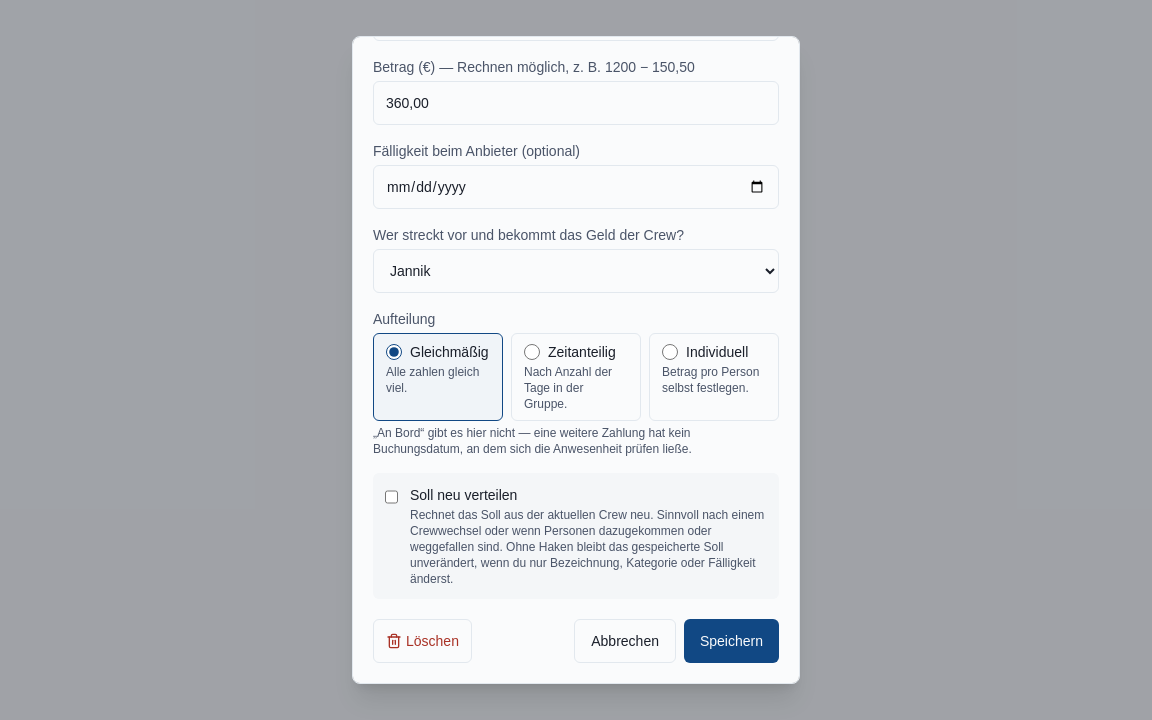
it: Löschen sitzt im Bearbeiten-Dialog der weiteren Zahlung › Rückfrage „Abbrechen“ löscht nichts
(page scrolled)
Click the button "Löschen" at coordinates (422, 641), box [373, 619, 472, 663]
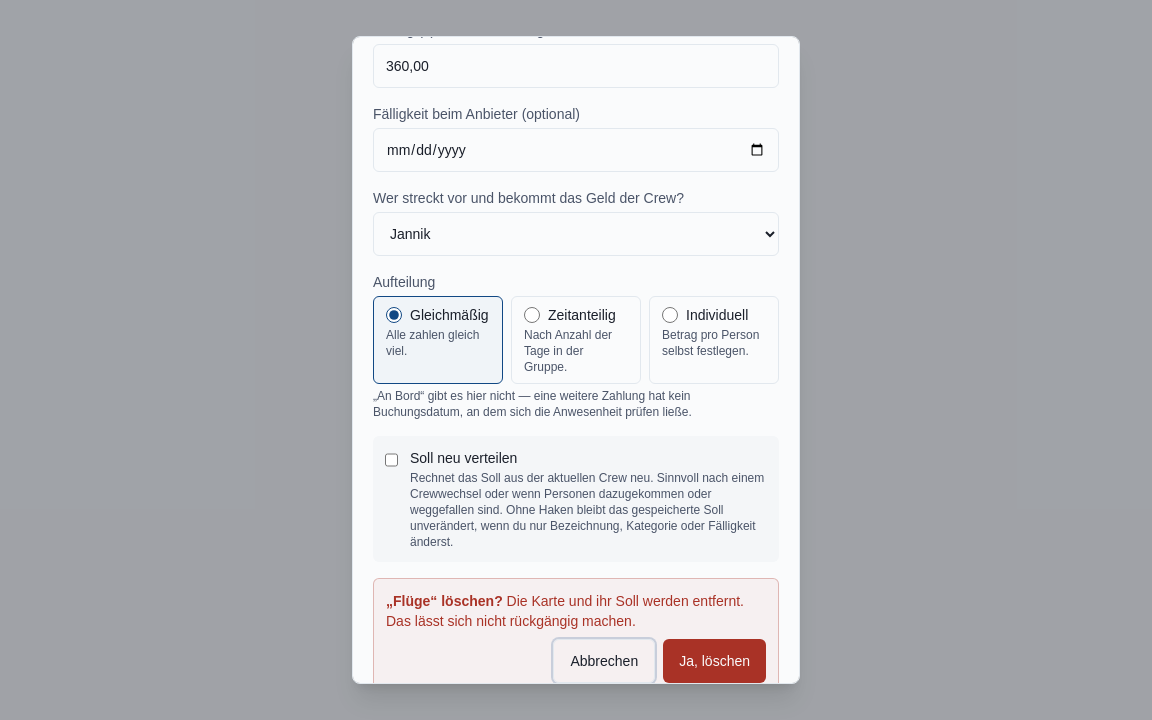
Click the button "Abbrechen" at coordinates (604, 661), box [554, 639, 655, 683]
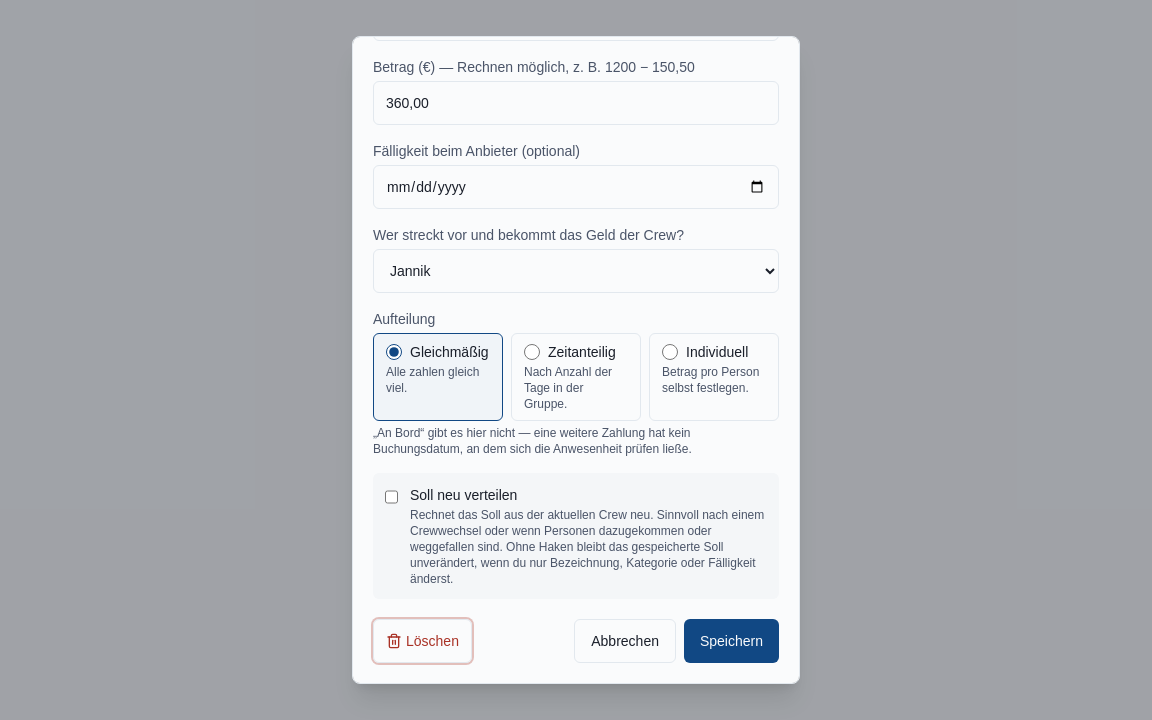
Expected: the dialog is gone
